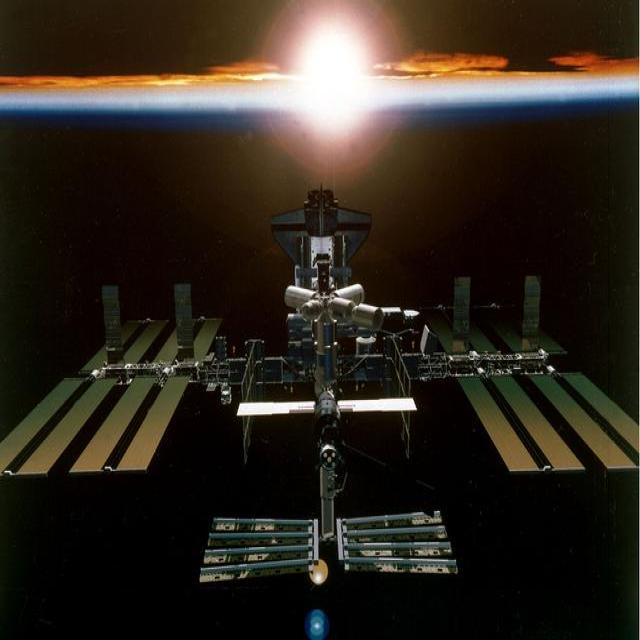satellite: (0, 190, 639, 639)
